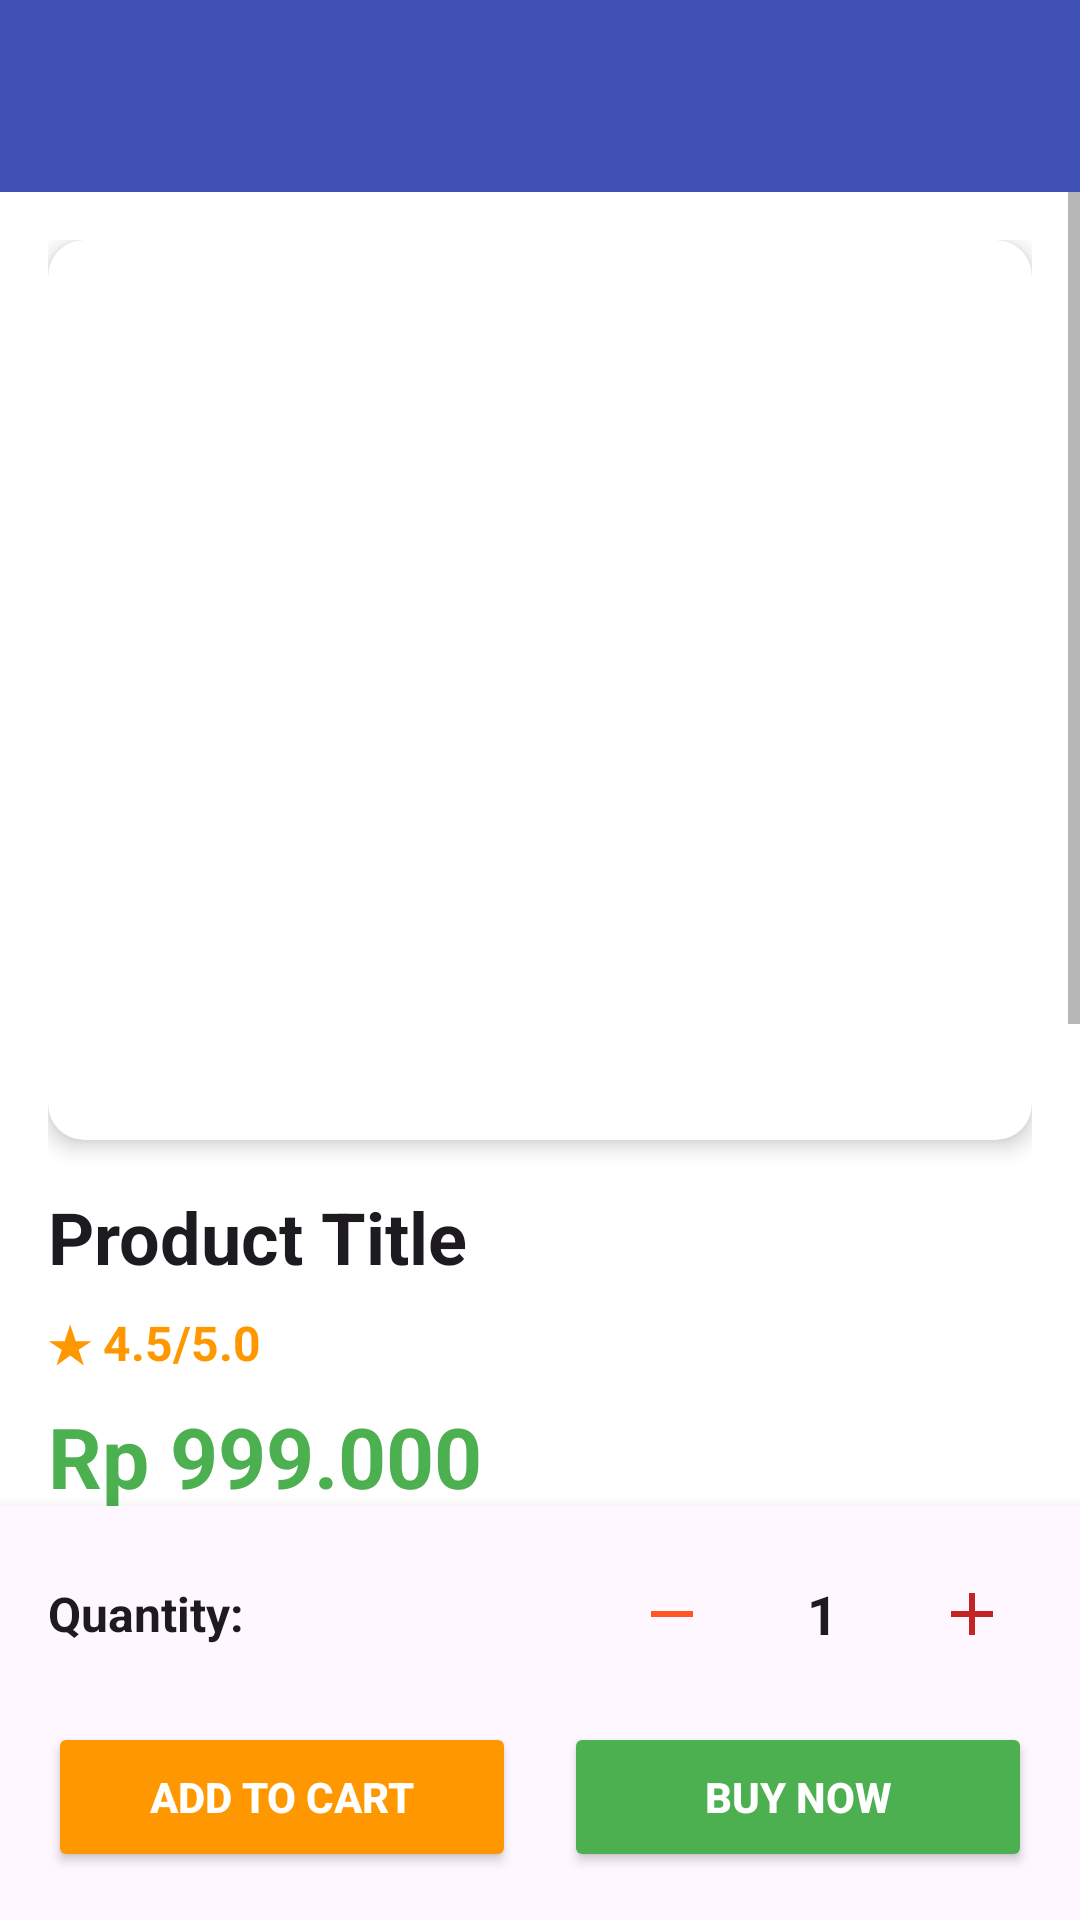

Named icons in this screenshot (1080w x 1920h) and their centers, [x,y]:
Increase quantity: [972,1614]
